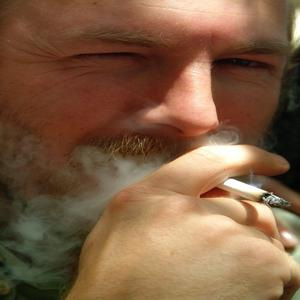cigarette: (220, 178, 287, 208)
